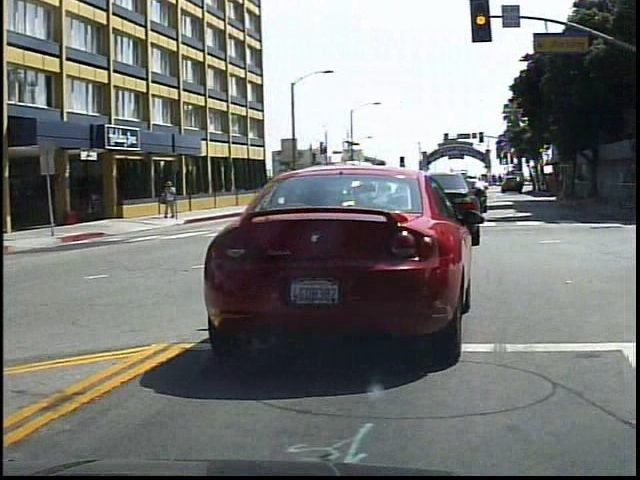person: (160, 177, 181, 224)
